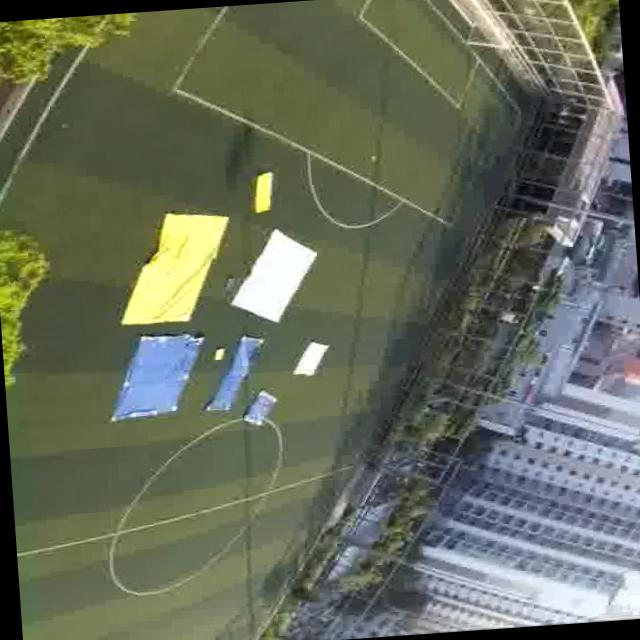danger: (106, 332, 202, 418), (224, 330, 268, 390), (238, 390, 282, 430)
safety: (228, 223, 329, 329), (276, 335, 338, 386)
warning: (118, 212, 226, 327), (246, 172, 280, 220)
